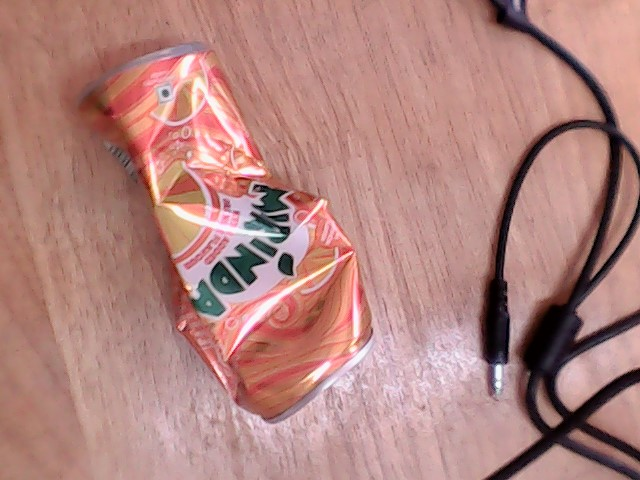Metal: (78, 59, 384, 419)
